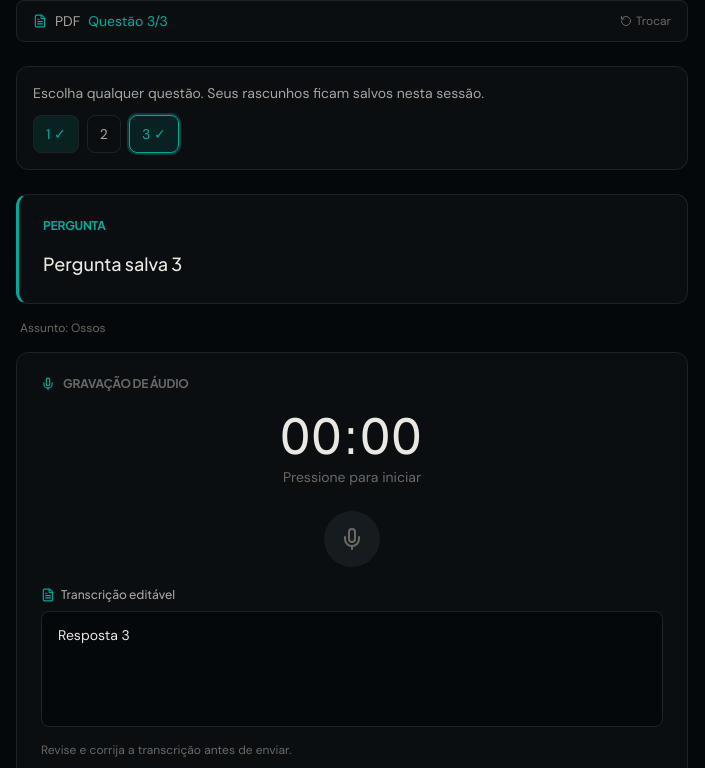
it: free question navigation › resumes answered positions without regeneration and keeps final feedback hidden
The width and height of the screenshot is (705, 768).
Check: the text "Pergunta salva 3" is shown, box 43,252 -> 182,275
Click the button "1 ✓" at (56, 134), box 33,115 -> 79,153
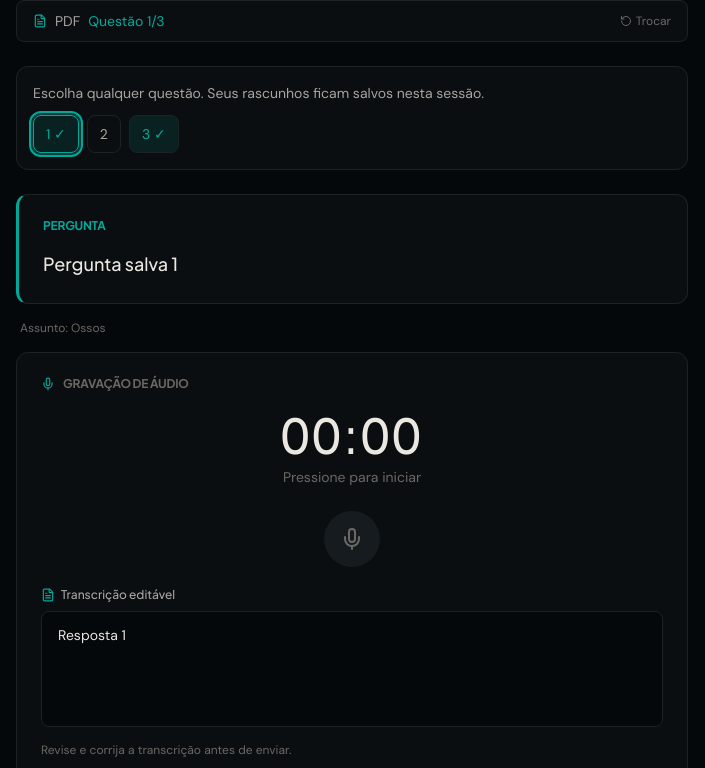
Check: the text box labelled "Transcrição editável" holds "Resposta 1", box 41,611 -> 663,727
Click the button "2" at (104, 134), box 87,115 -> 121,153
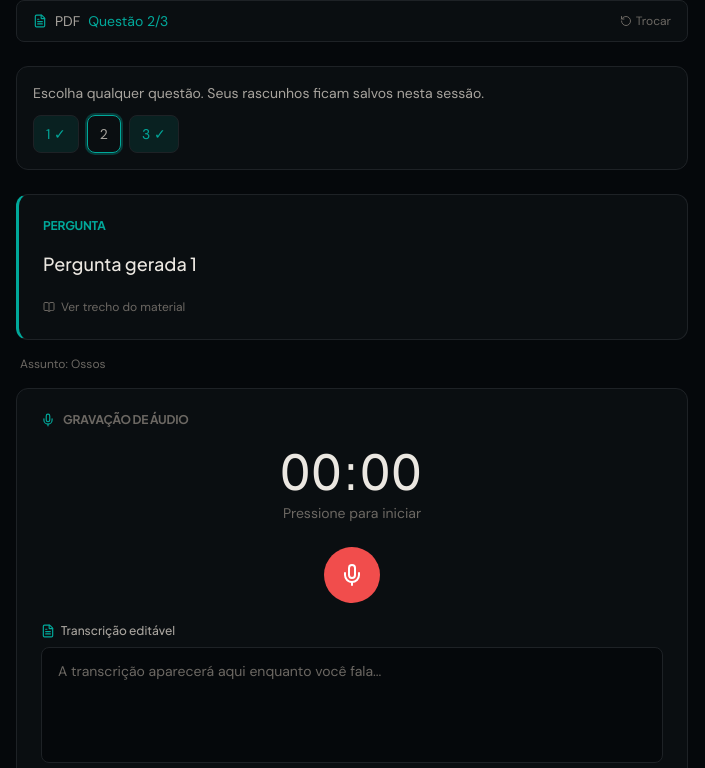
Check: the text "Pergunta gerada 1" is shown, box 43,252 -> 197,275
Type "Minha resposta" into the text box labelled "Transcrição editável" at (352, 705), box 41,647 -> 663,763
(page scrolled)
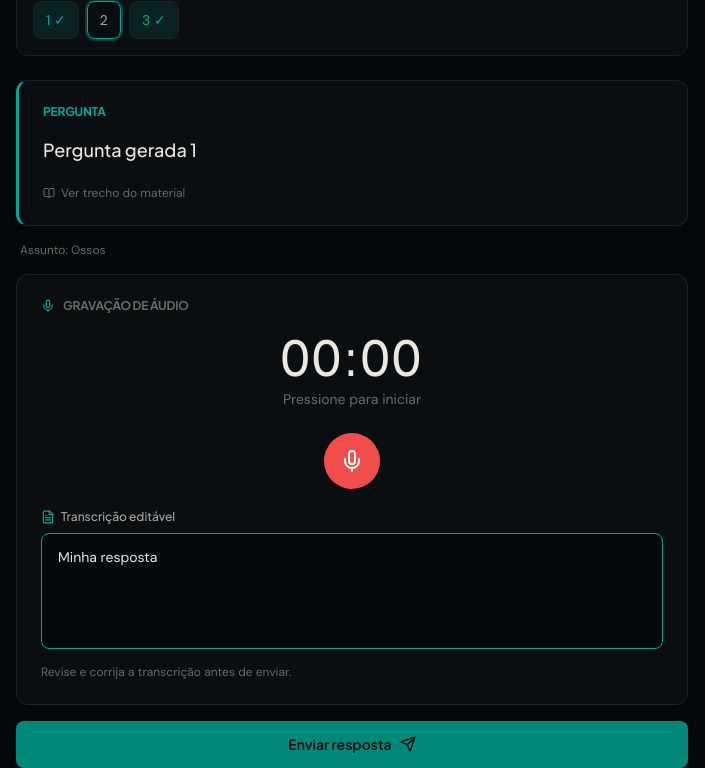
Click the button with id "submit-audio-answer-btn" at (352, 744), box 16,721 -> 688,767
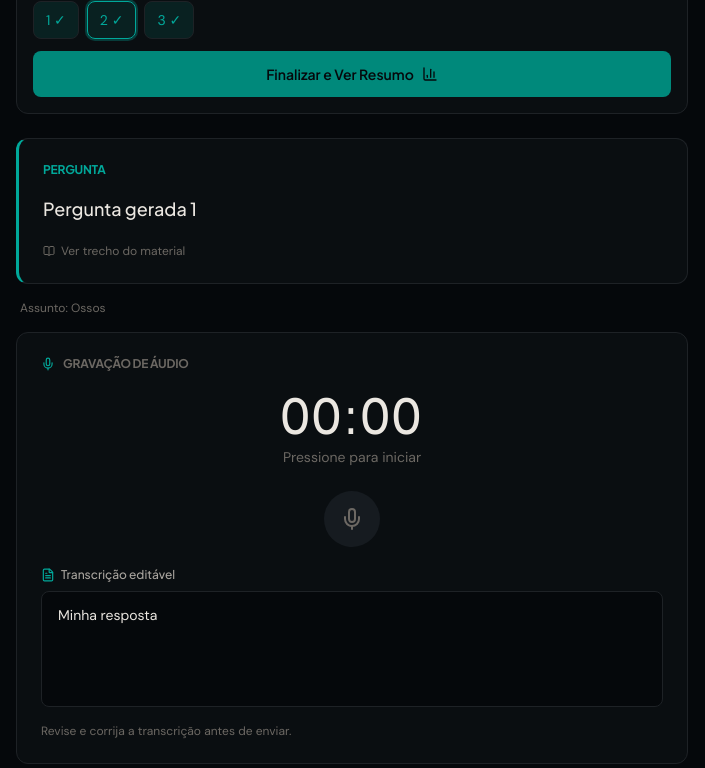
Check: the button with id "finish-session-btn" is shown
Click the button with id "finish-session-btn" at (352, 74), box 33,51 -> 671,97
(page scrolled)
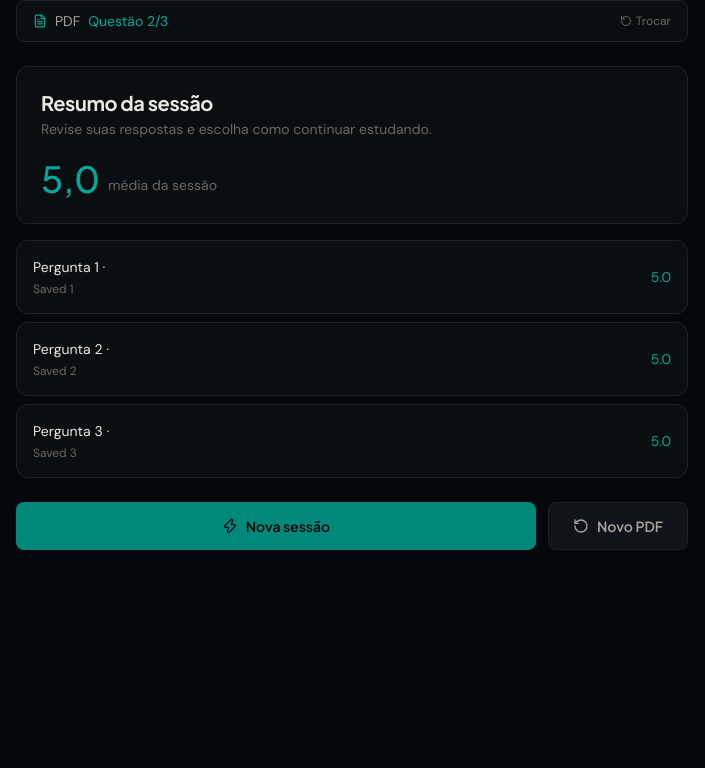
Check: the button with id "new-session-btn" is shown, box 16,502 -> 536,550
